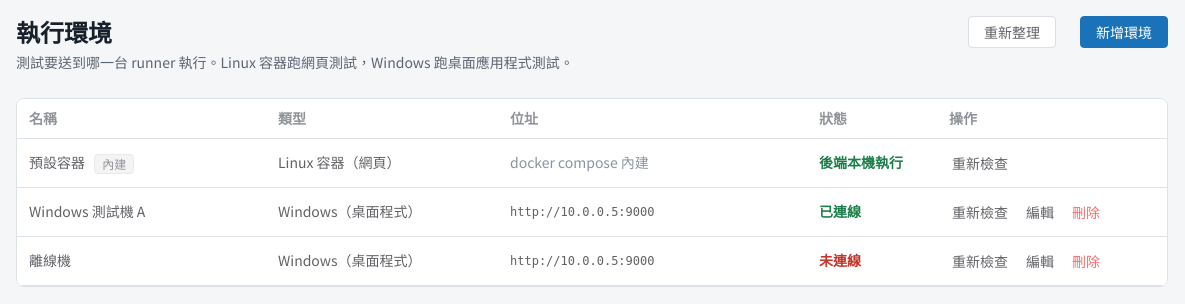
RunnerEnvironmentsPage › re-checks an environment
The image size is (1185, 304).
Step 1. Click the button with test id "btn-check-env-2" → (980, 261), box [949,245,1011,277]
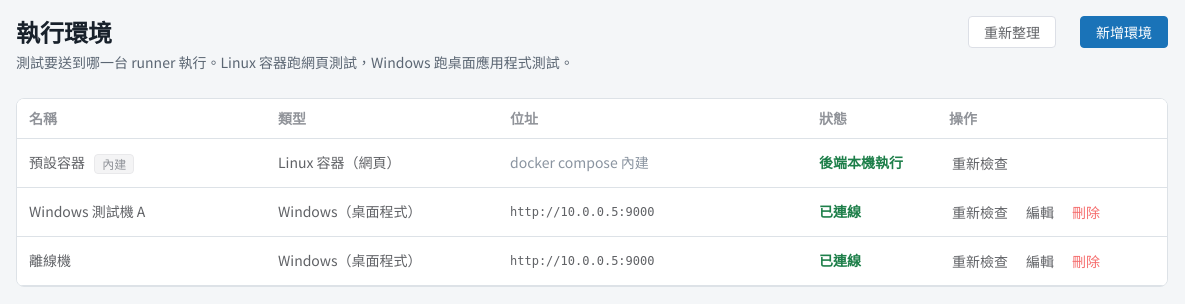
Now the text with test id "status-env-2" reads "已連線", box [819,250,861,270]
